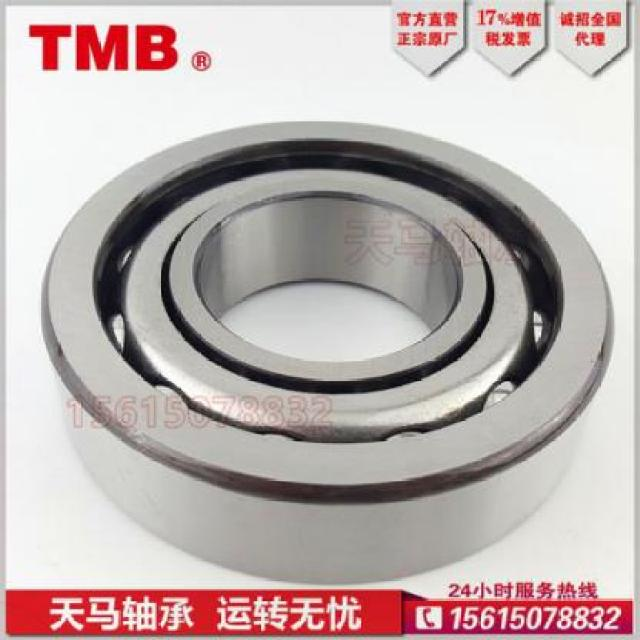Bearing: (32, 114, 618, 586)
